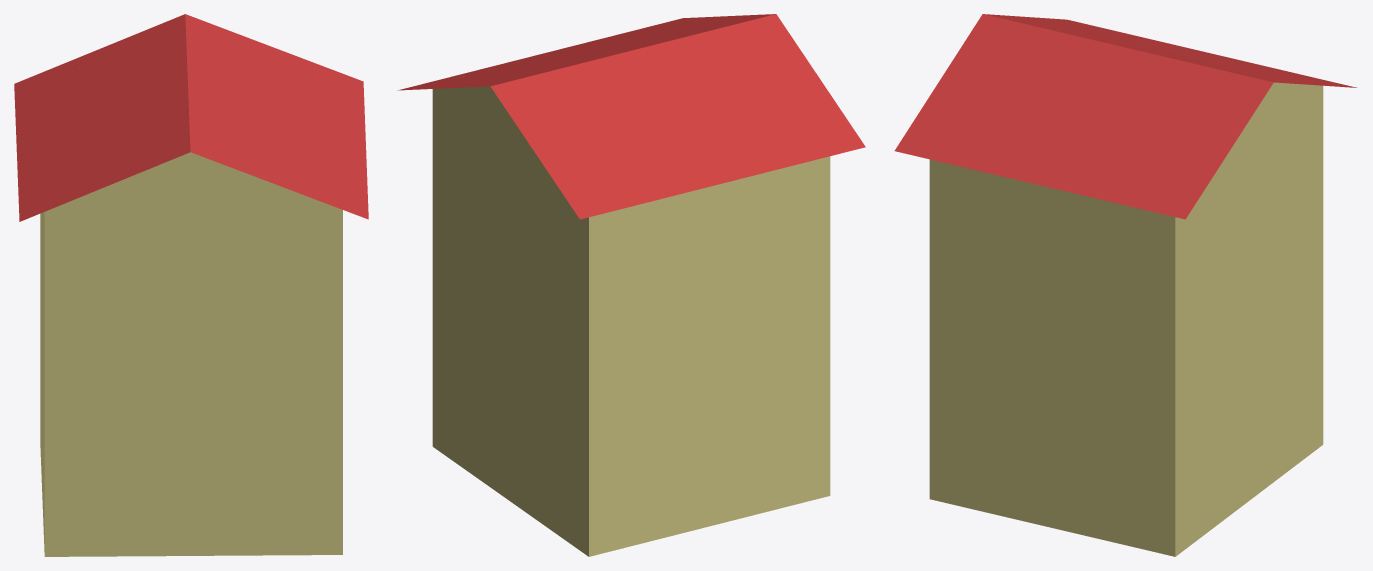
3 renders of one model, left to right at view 1: azimuth 30°, elevation 25°; view 2: azimuth 150°, elevation 25°; view 3: azimuth 270°, elevation 25°, orthographic.
Visible parts, largest first — view 1: group_5, group_3, group_4; view 2: group_5, group_3, group_4; view 3: group_5, group_3, group_4.
Part boxes in pixels (bbox=[...]): group_5: bbox=[40, 152, 342, 556]; group_3: bbox=[40, 15, 368, 219]; group_4: bbox=[14, 14, 363, 221]; group_5: bbox=[432, 86, 830, 556]; group_3: bbox=[405, 14, 829, 193]; group_4: bbox=[397, 14, 865, 219]; group_5: bbox=[929, 82, 1323, 556]; group_3: bbox=[894, 14, 1320, 218]; group_4: bbox=[983, 14, 1357, 219].
Bounding box in the file's own units: 9.08 × 8.91 × 8.94.
